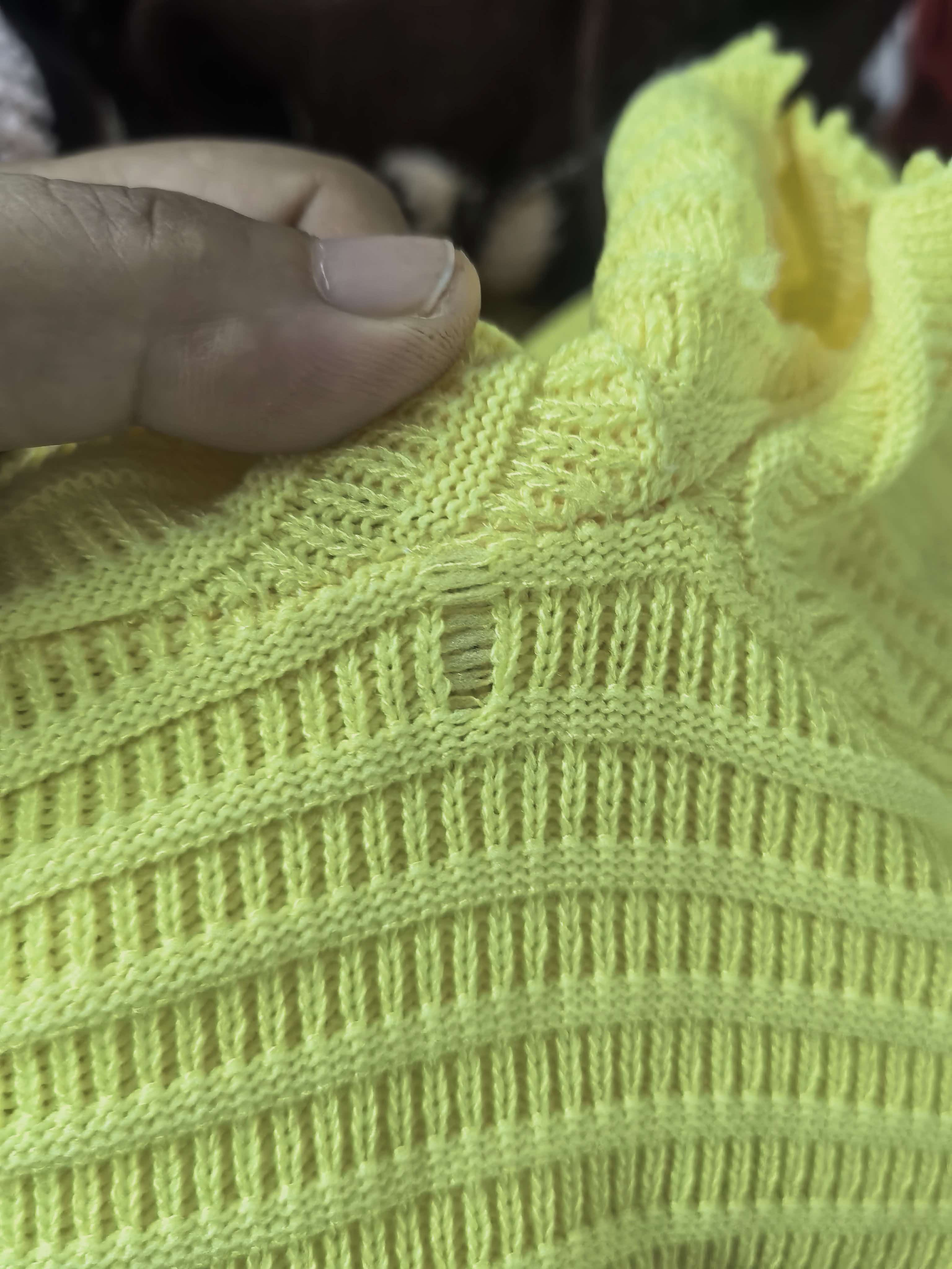missing_stitch_1: (413, 539, 513, 721)
